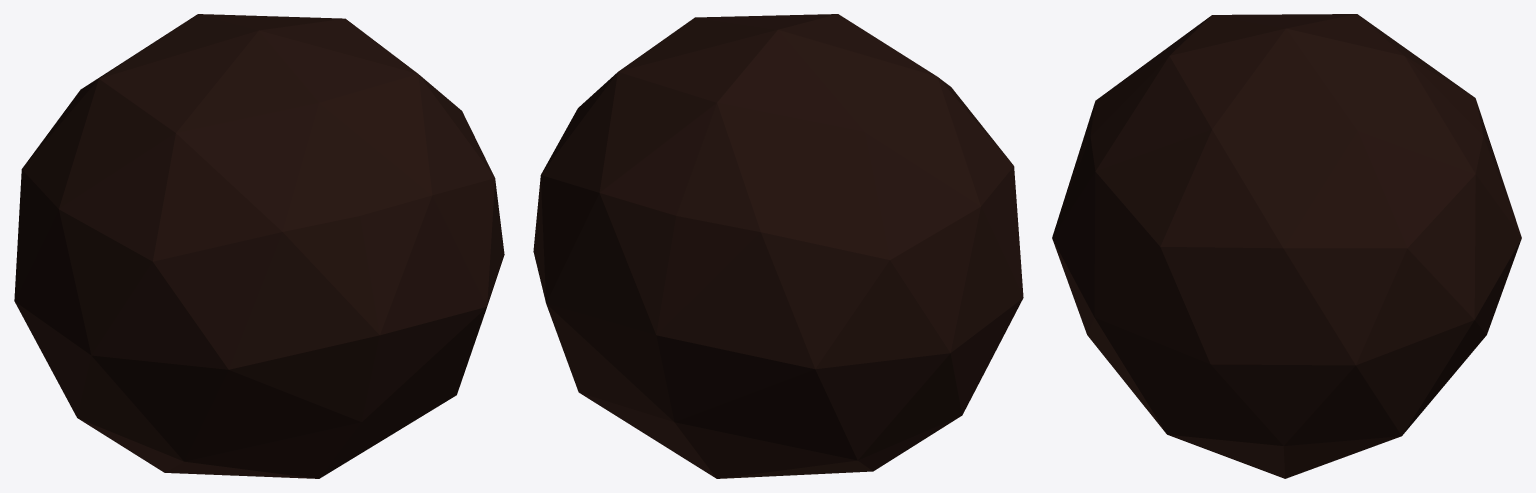
File: Coconut.obj
The picture shows the model from 3 angles, left to right: view 1: azimuth 30°, elevation 25°; view 2: azimuth 150°, elevation 25°; view 3: azimuth 270°, elevation 25°; orthographic projection. The views are drawn at different scales.
Parts seen in each view (by area): view 1: Coconut_Icosphere.003; view 2: Coconut_Icosphere.003; view 3: Coconut_Icosphere.003.
Boxes of the visible parts, <box> form: Coconut_Icosphere.003: <box>14,14,504,478</box>; Coconut_Icosphere.003: <box>533,14,1023,478</box>; Coconut_Icosphere.003: <box>1052,14,1521,478</box>.
Size of the model in its own units: 0.7777 by 0.7769 by 0.7834.
